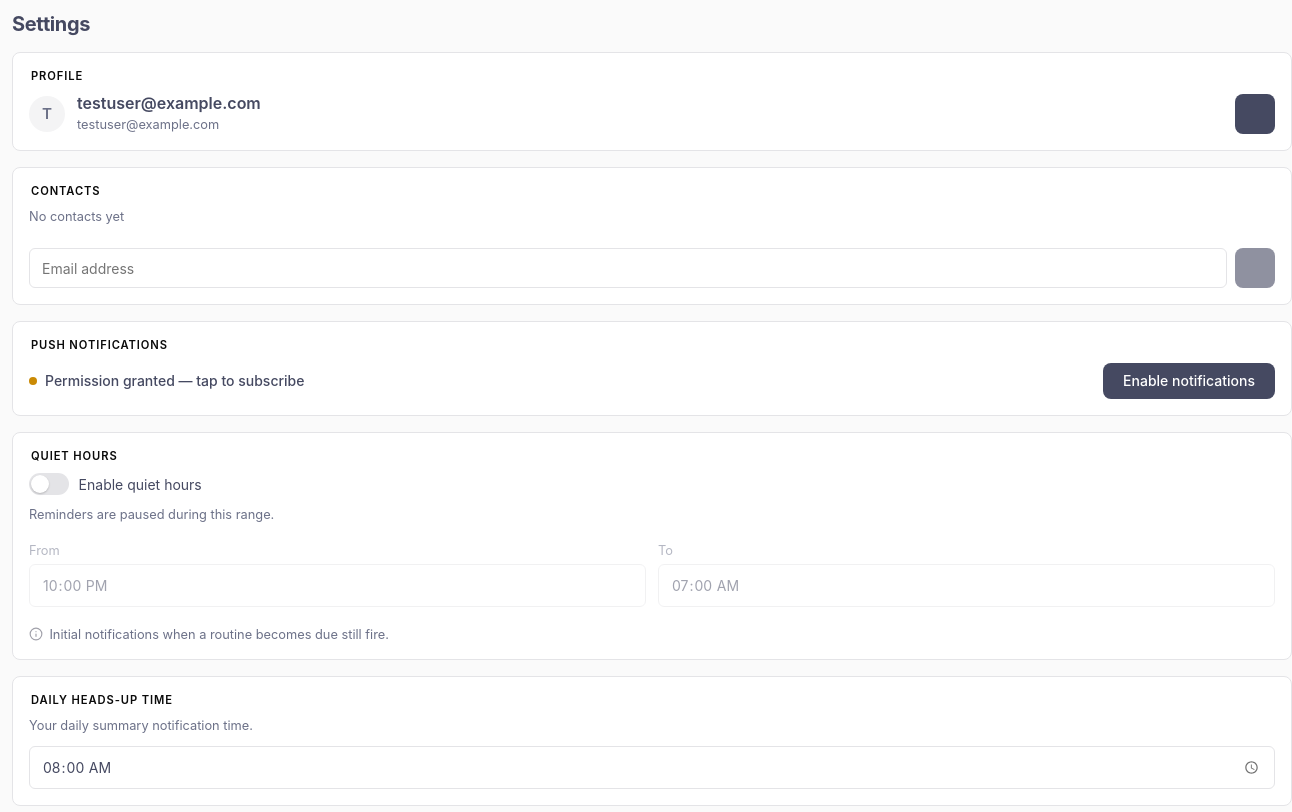
Test: SettingsPage › shows the not-found error when the backend returns 404
Expected: the text "Contacts" is shown, [31, 184, 100, 198]
In the field with test id "add-contact-email": (628,268) [29, 248, 1227, 288], type "ghost@example.com"
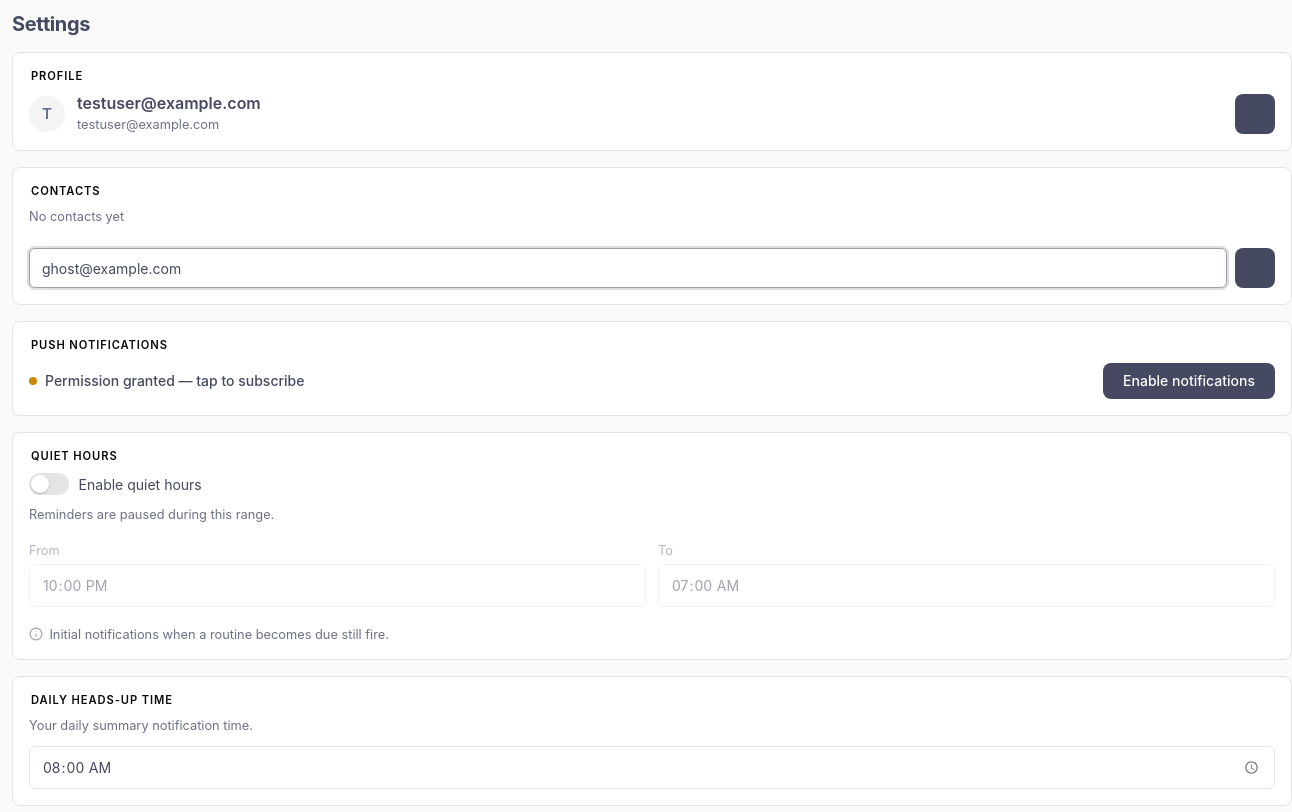
Click the button with test id "add-contact-submit": (1255,268) [1235, 248, 1275, 288]
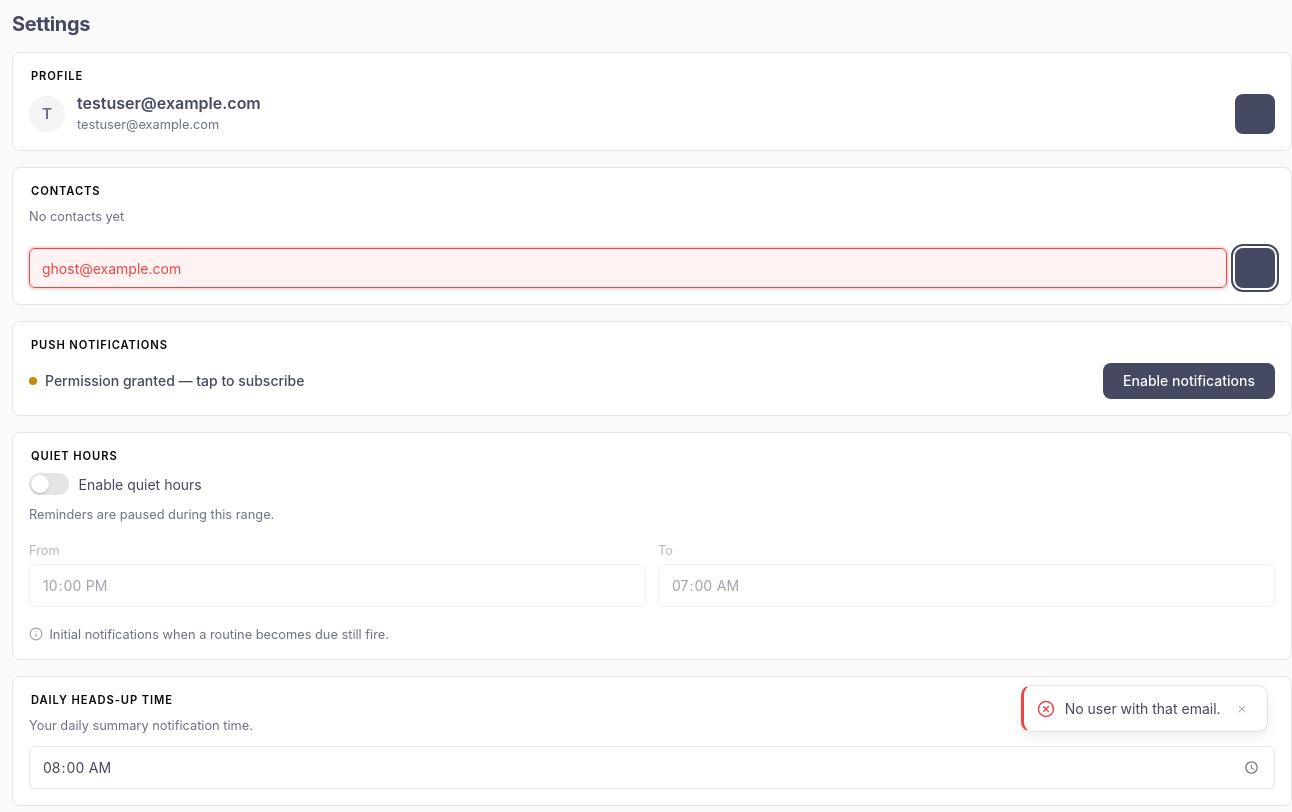
Result: the text "No user with that email." is shown at [1065, 700, 1221, 718]
